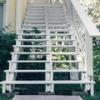stairs: (1, 1, 95, 95)
